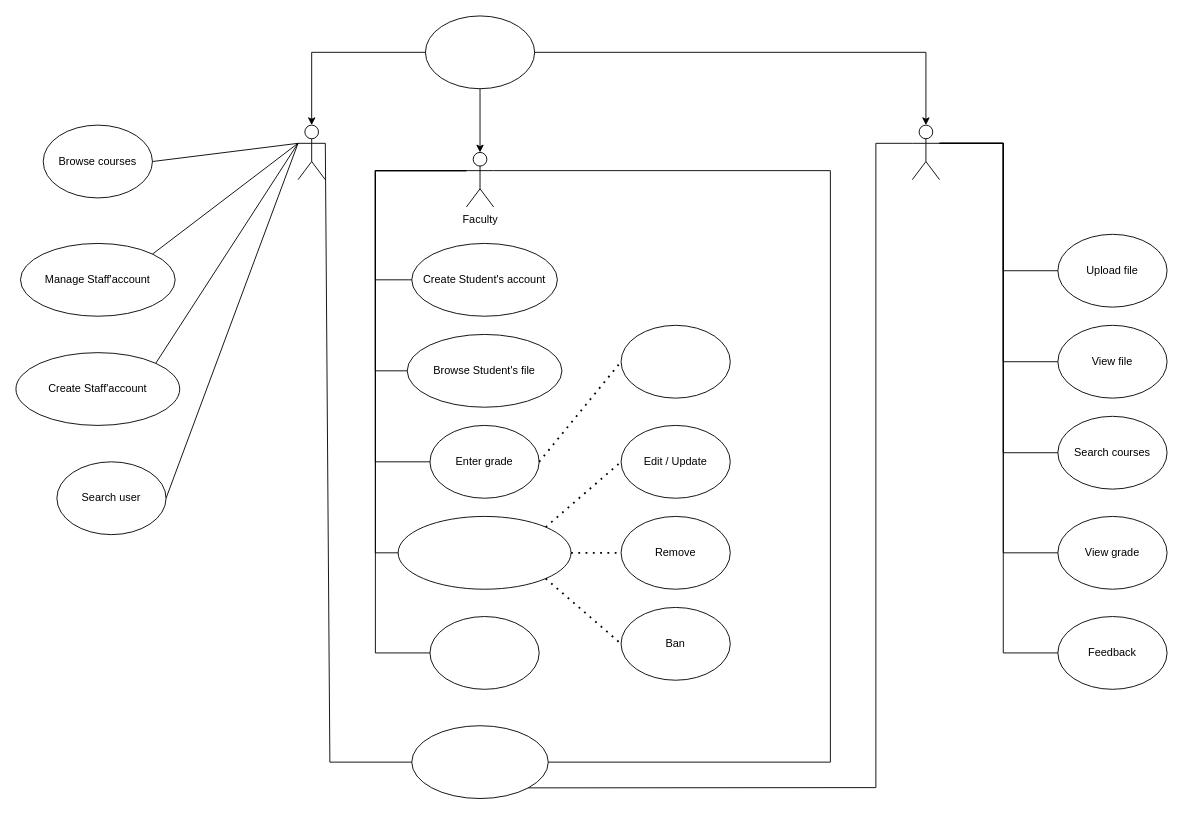
Some shapes in this 1183 by 814 pixel diagram are drawn without their labels. The shapes that lost their labels are listed below. From the top down, each one's centre as x and y in pixels, then its label:
At point 480,52: "Register / Login".
At point 311,152: "Admin".
At point 925,152: "Student".
At point 675,361: "Edit grade".
At point 484,552: "Manage Student's account".
At point 484,652: "Create courses".
At point 479,762: "Change password".
